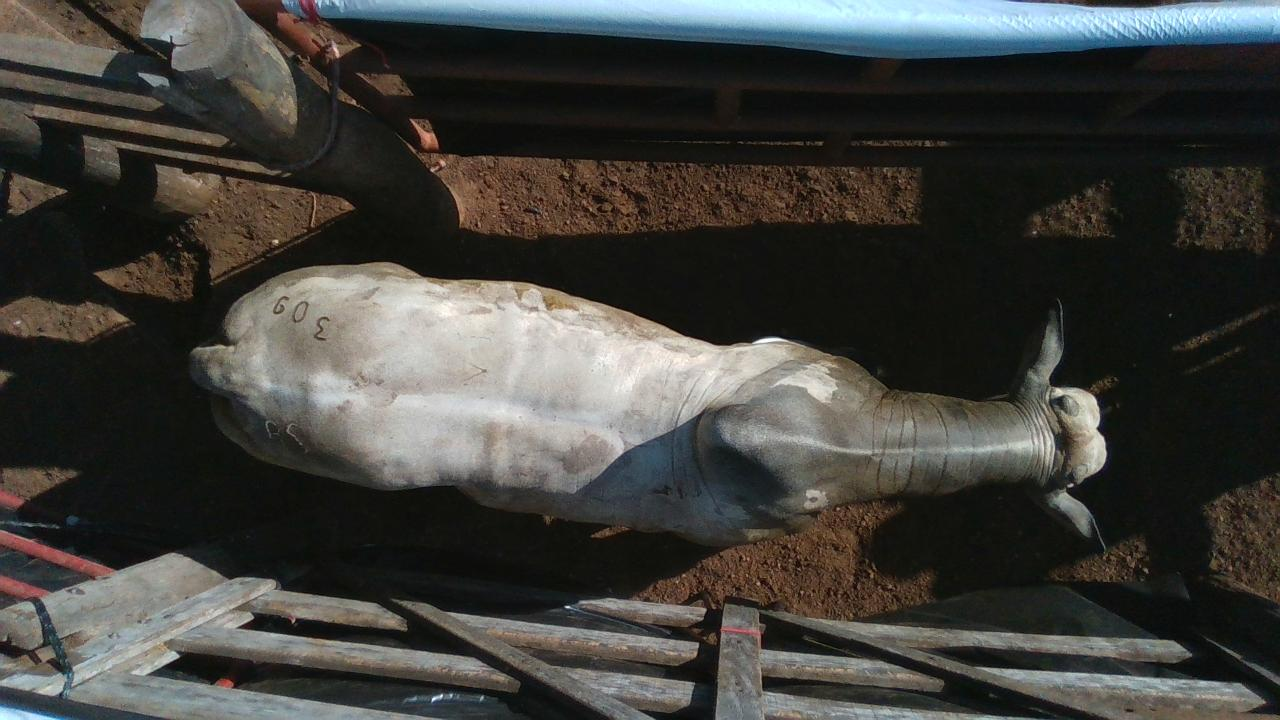cattle: (187, 259, 1110, 554)
